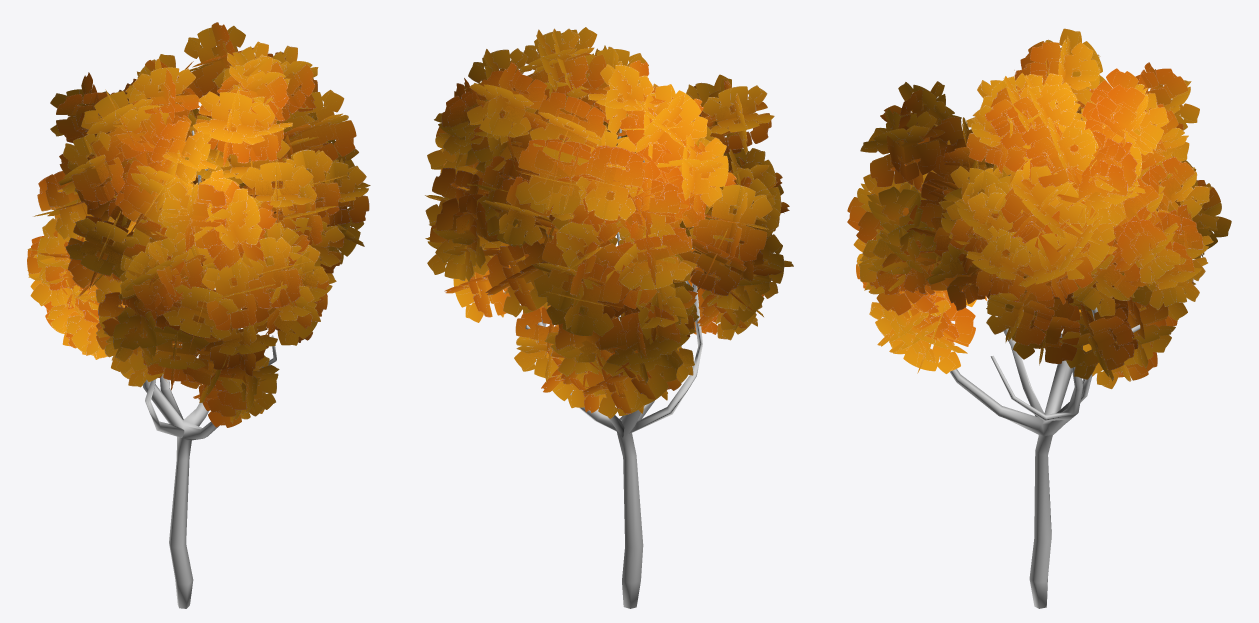
The model's file is TSP_Tree_01C.fbx.
The picture shows the model from 3 angles, left to right: view 1: azimuth 30°, elevation 25°; view 2: azimuth 150°, elevation 25°; view 3: azimuth 270°, elevation 25°; orthographic projection. The views are drawn at different scales.
Visible parts, largest first — view 1: TSP_Tree_01C; view 2: TSP_Tree_01C; view 3: TSP_Tree_01C.
Boxes of the visible parts, x1,y1,x2,y2 form: TSP_Tree_01C: (27,22,370,608); TSP_Tree_01C: (425,27,793,608); TSP_Tree_01C: (847,28,1231,608).
Bounding box in the file's own units: 4.92 × 8.05 × 5.17.
